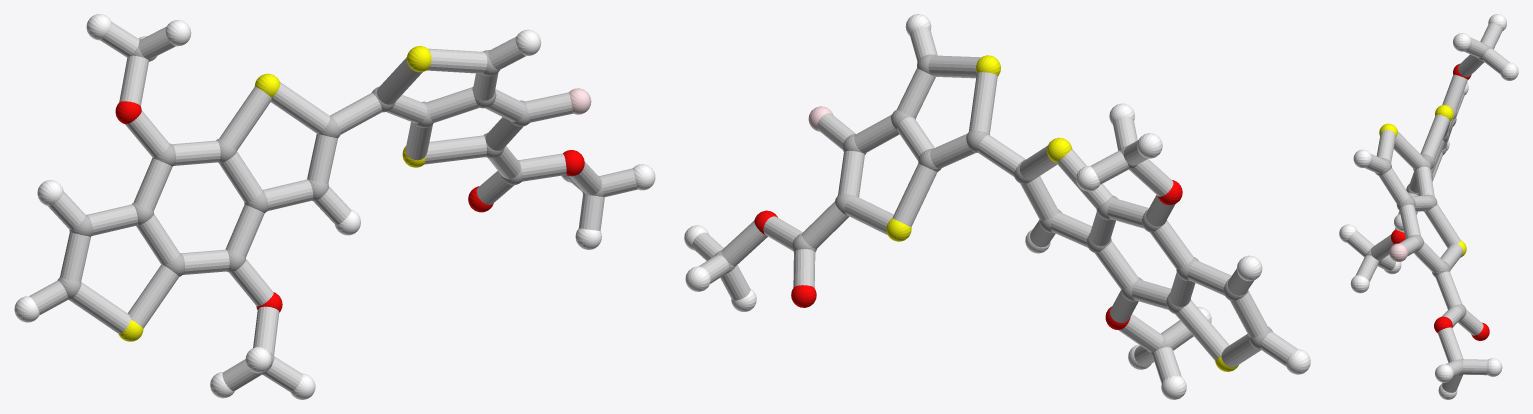
File: Dimethoxy_Benzodithiophene_Phi_20_Theta_230_Methylcarbonyl_3_Fluoro_Thienothiophene.glb
3 views of the same model, side by side, from view 1: azimuth 30°, elevation 25°; view 2: azimuth 150°, elevation 25°; view 3: azimuth 270°, elevation 25° (orthographic). The views are drawn at different scales.
Visible parts, largest first — view 1: grp15205, grp8689, grp1, grp7241, grp13395; view 2: grp15205, grp8689, grp1, grp7241, grp13395; view 3: grp15205, grp8689, grp1, grp13395, grp7241, grp14843.
Part boxes in pixels (x1,y1,x2,y2): grp15205: [29, 22, 637, 392]; grp8689: [14, 14, 655, 399]; grp1: [57, 39, 604, 374]; grp7241: [118, 46, 431, 341]; grp13395: [115, 101, 584, 312]; grp15205: [692, 26, 1297, 383]; grp8689: [684, 14, 1310, 399]; grp1: [713, 54, 1272, 356]; grp7241: [886, 55, 1238, 371]; grp13395: [754, 180, 1182, 329]; grp15205: [1347, 23, 1509, 392]; grp8689: [1339, 14, 1518, 399]; grp1: [1365, 44, 1491, 375]; grp13395: [1391, 63, 1489, 340]; grp7241: [1379, 105, 1466, 257]; grp14843: [1389, 243, 1407, 261].
Size of the model in its own units: 16.78 by 8.5 by 5.73.
